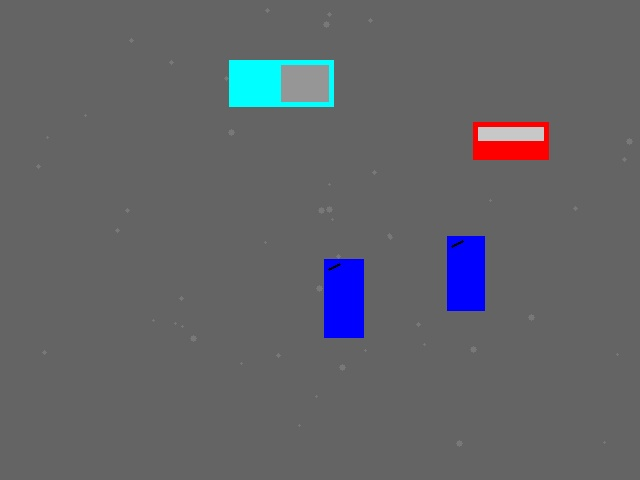car: (473, 122, 548, 159)
motorcycle: (324, 259, 363, 337), (447, 236, 484, 310)
truck: (229, 60, 333, 106)
